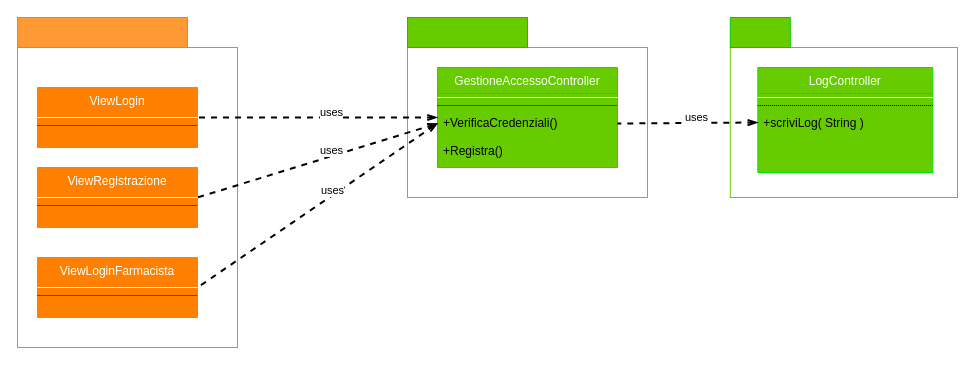
Image size: 975x365. Some labels were removed from this diagram. Here are the shapes that lost their labels. From the top down, the centre of each, then its label:
[102,32]: InterfacciaGestioneAccesso
[467,32]: GestioneAccesso
[759,32]: Log
